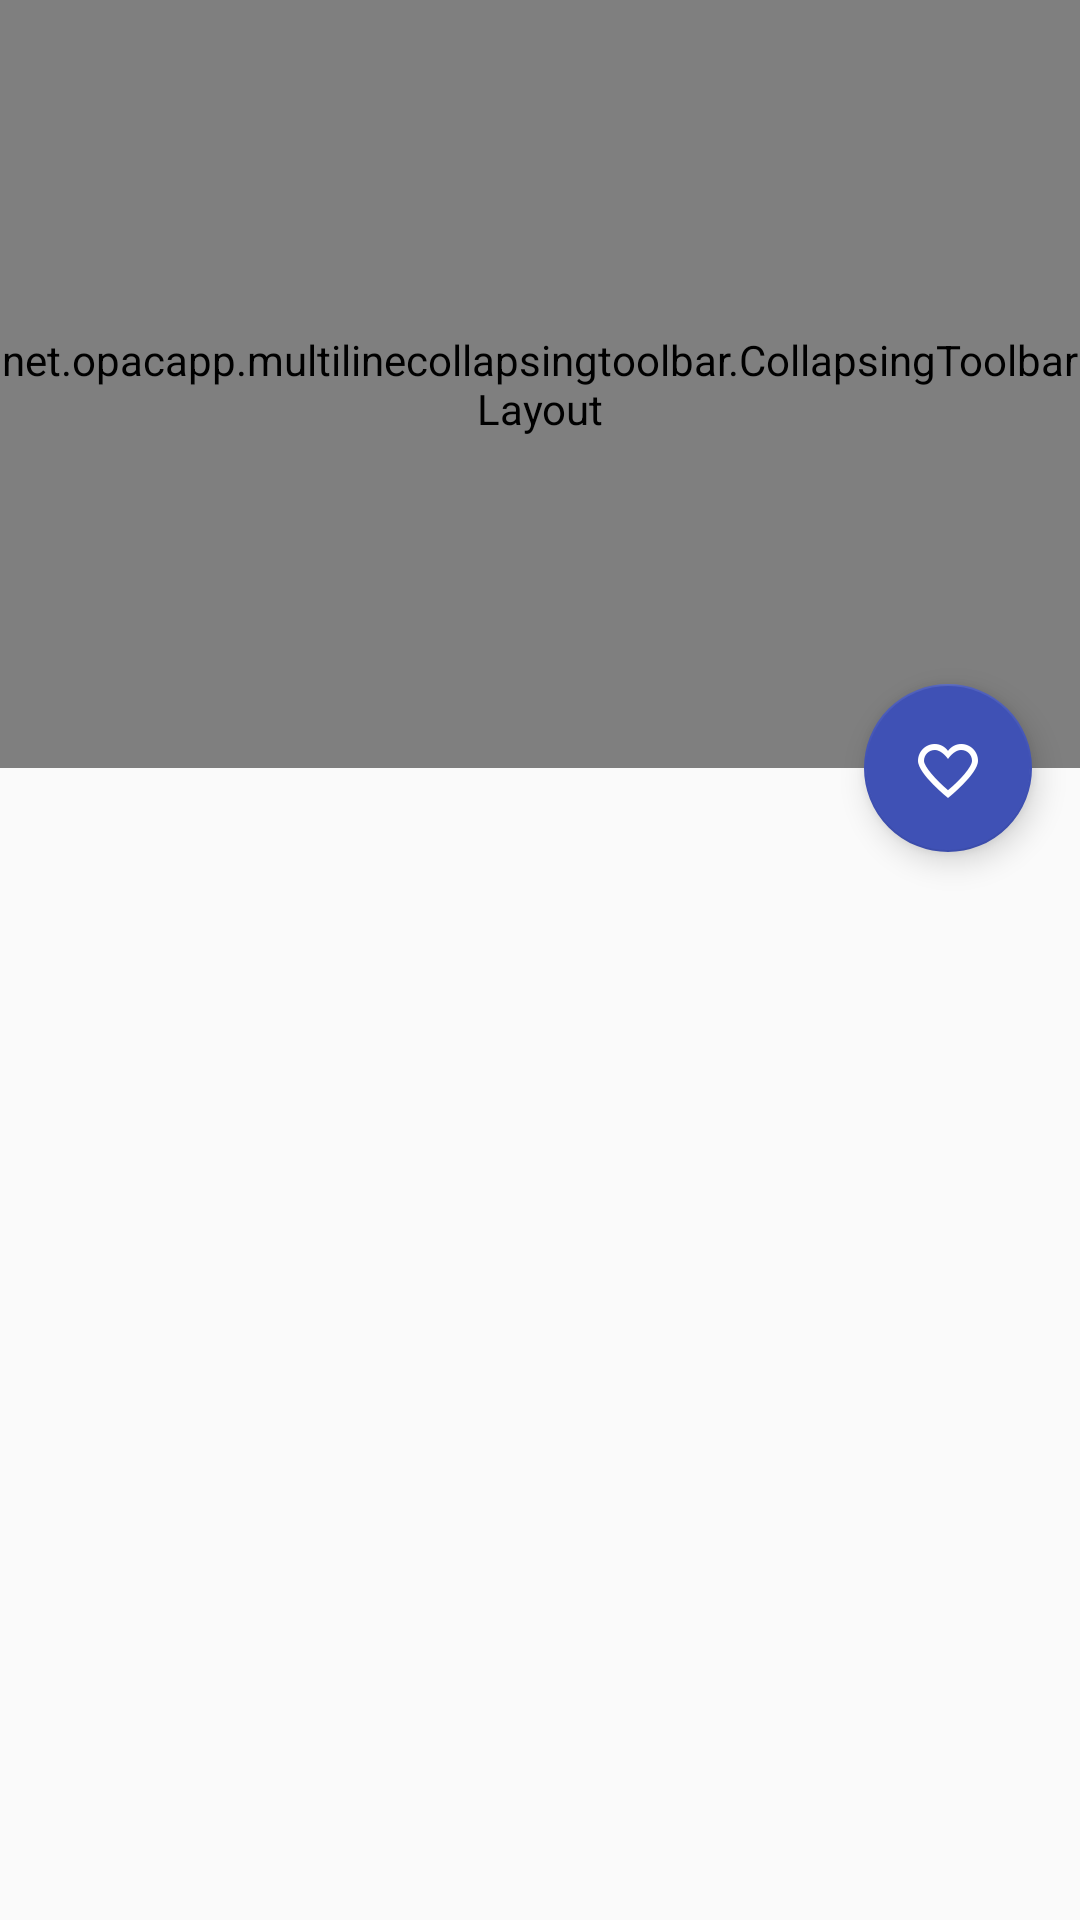

Screen size 1080px×1920px. Icon name, then its center in pixels as [x,y]:
like: [948,768]
